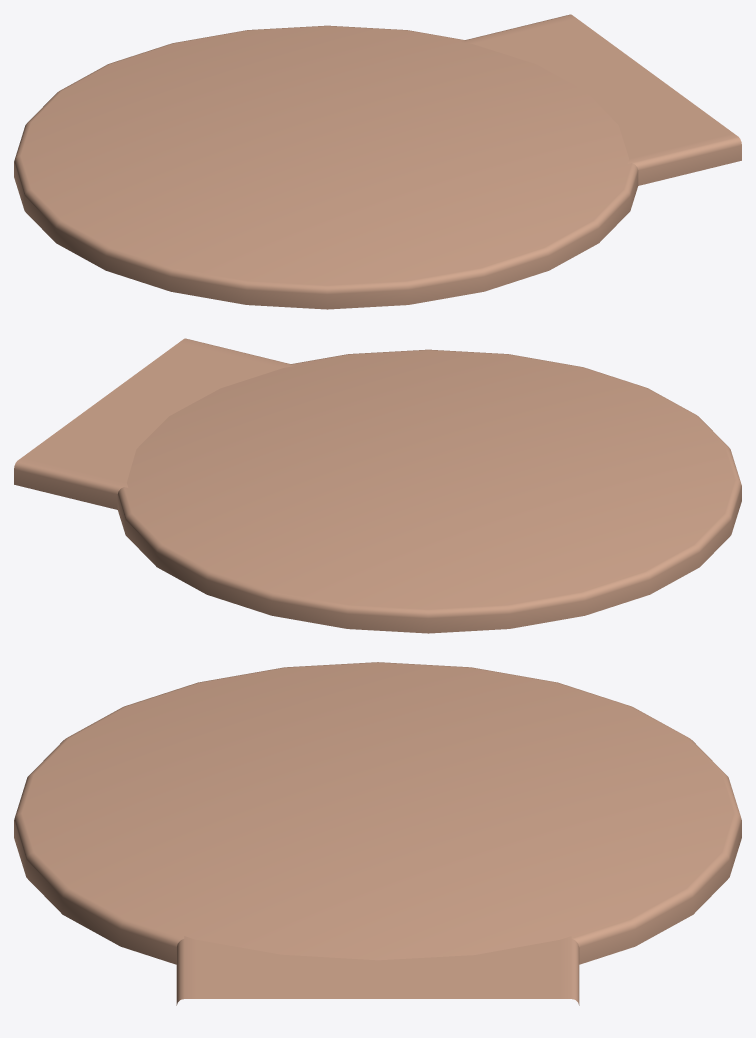
Rendered from Finish_Normal.fbx.
3 views of the same model, one above another, from view 1: azimuth 30°, elevation 25°; view 2: azimuth 150°, elevation 25°; view 3: azimuth 270°, elevation 25° (orthographic). The views are drawn at different scales.
Parts seen in each view (by area): view 1: Finish_Normal; view 2: Finish_Normal; view 3: Finish_Normal.
Boxes of the visible parts, x1,y1,x2,y2 form: Finish_Normal: (14, 14, 741, 309); Finish_Normal: (14, 338, 741, 633); Finish_Normal: (14, 662, 741, 1005).
Bounding box in the file's own units: 1139 × 38.94 × 1032.
